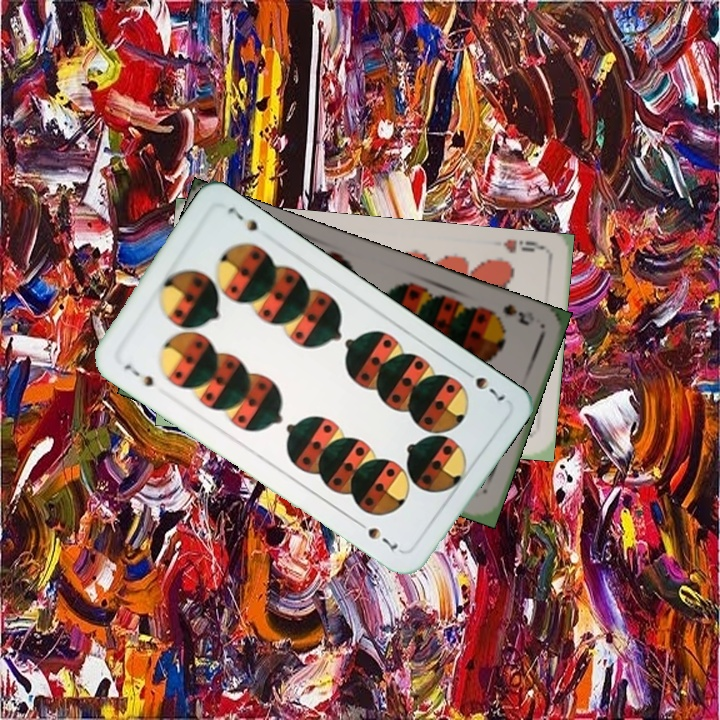H9: (500, 235, 547, 256)
S7: (458, 364, 508, 404), (119, 360, 157, 389)
S9: (482, 300, 532, 329)
